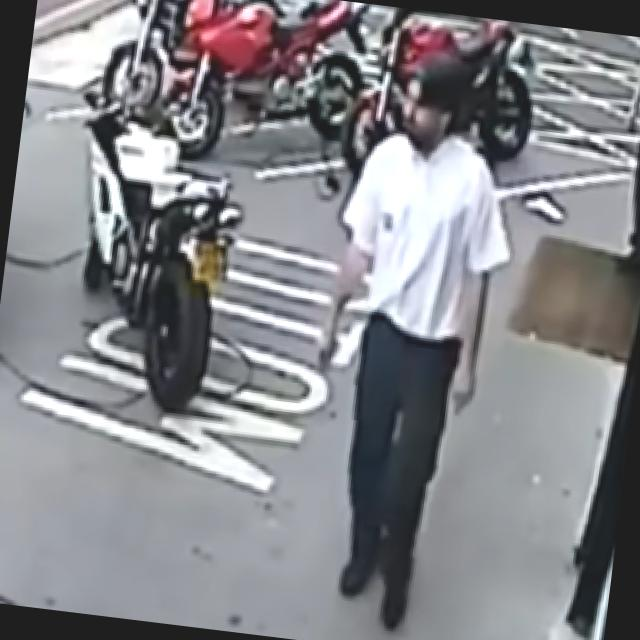person: (280, 39, 535, 640)
